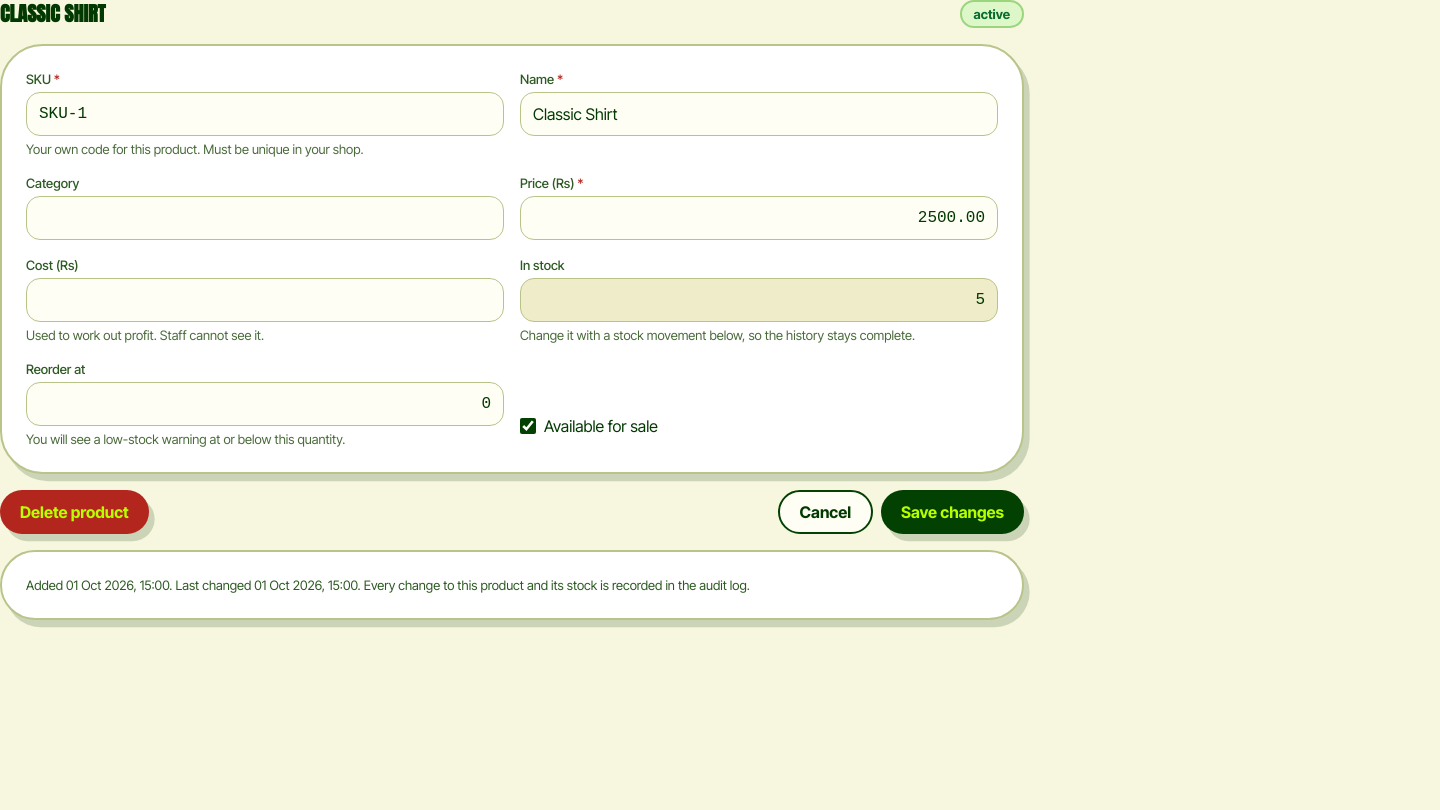
Scenario: ProductForm (task 52: validation, errors, double-submit) › when editing, quantity is read-only and deleting names the product and asks first
Step 1. Click the button "Delete product" → [74, 512], box [0, 490, 149, 534]
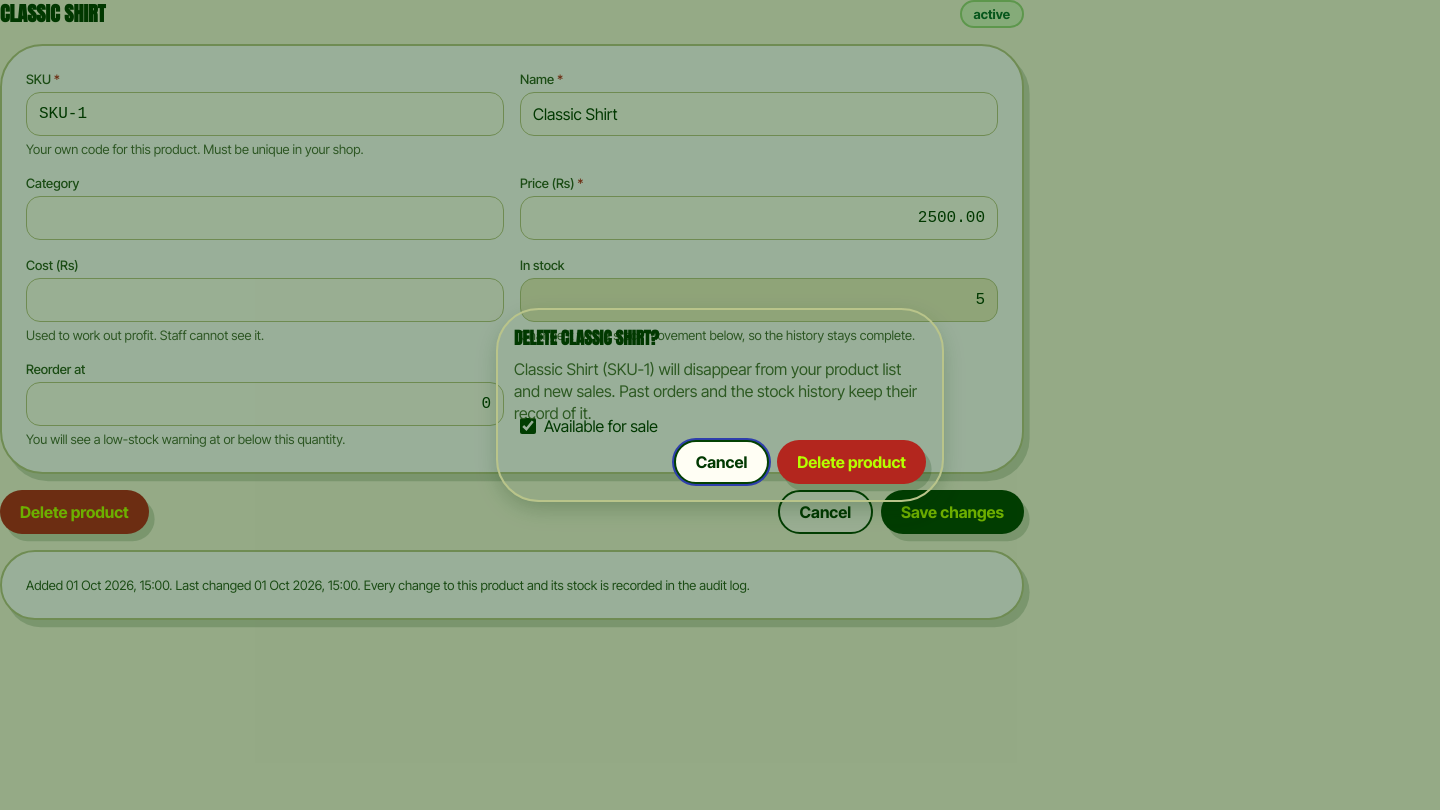
Expected: the heading "Delete Classic Shirt?" is shown, [514, 325, 659, 351]
